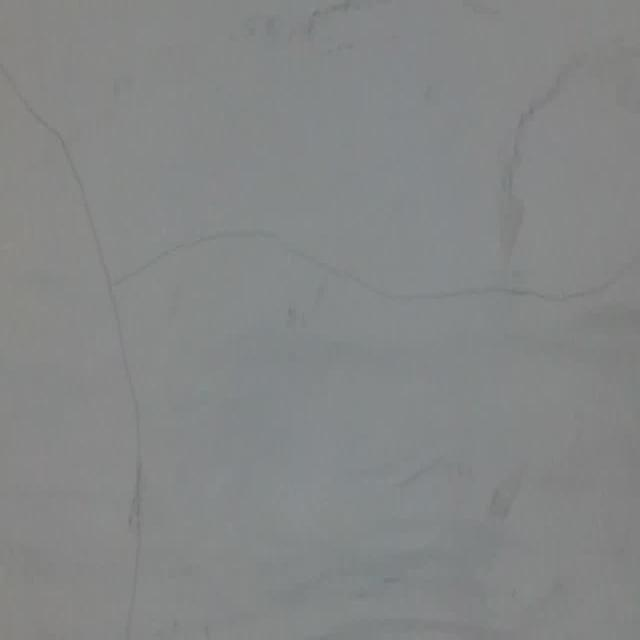Crack: (5, 63, 170, 640), (114, 217, 640, 335)
